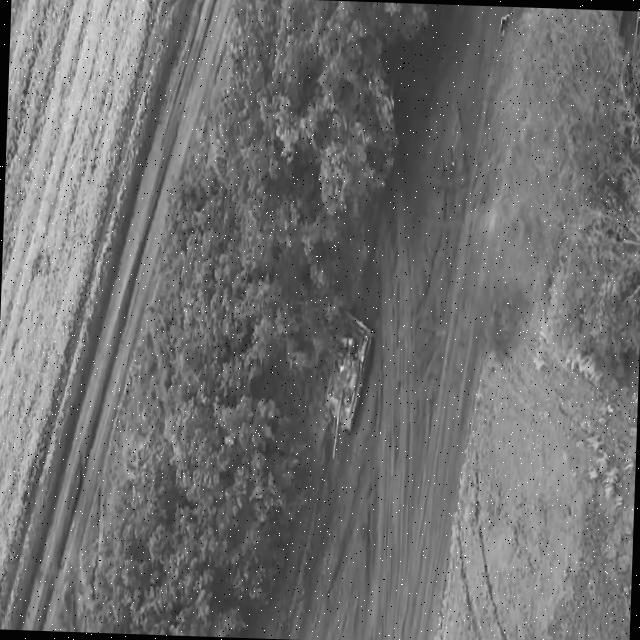MBT: (322, 309, 377, 465)
